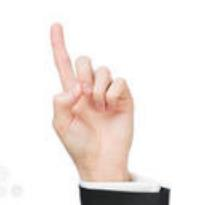up: (48, 22, 134, 177)
